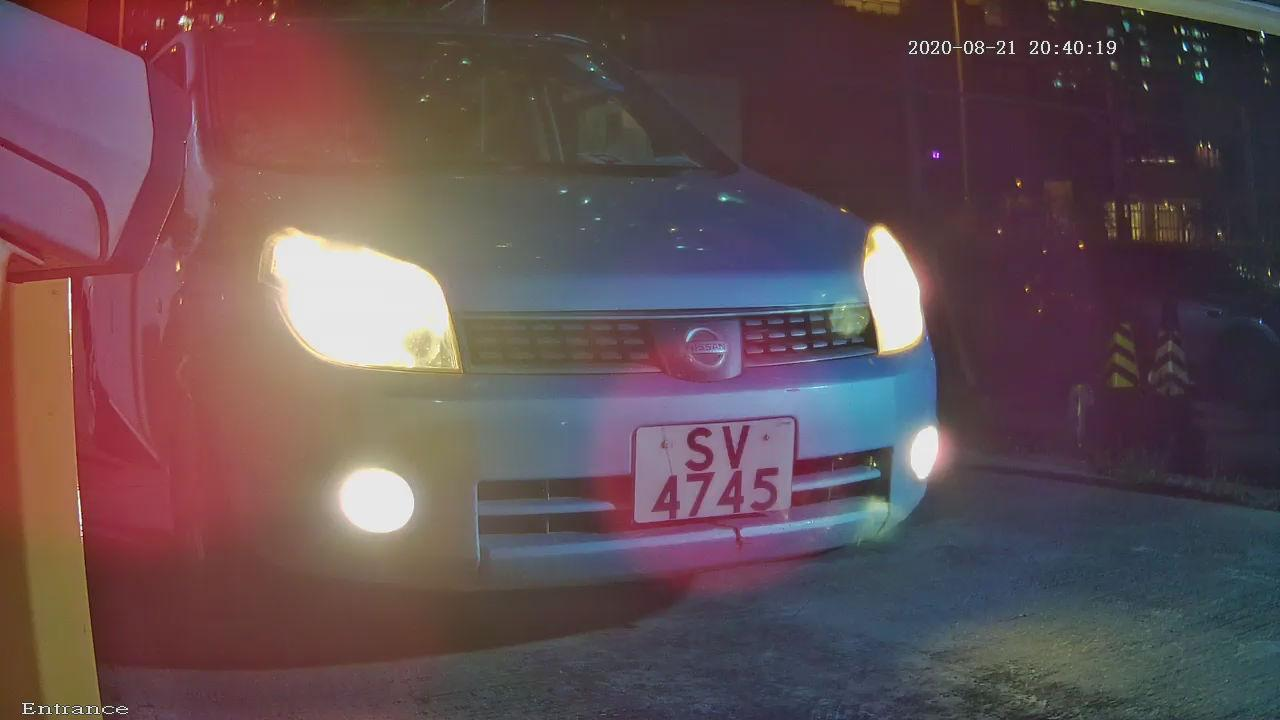Car: (52, 26, 1075, 695)
License Plate: (595, 399, 823, 547)
